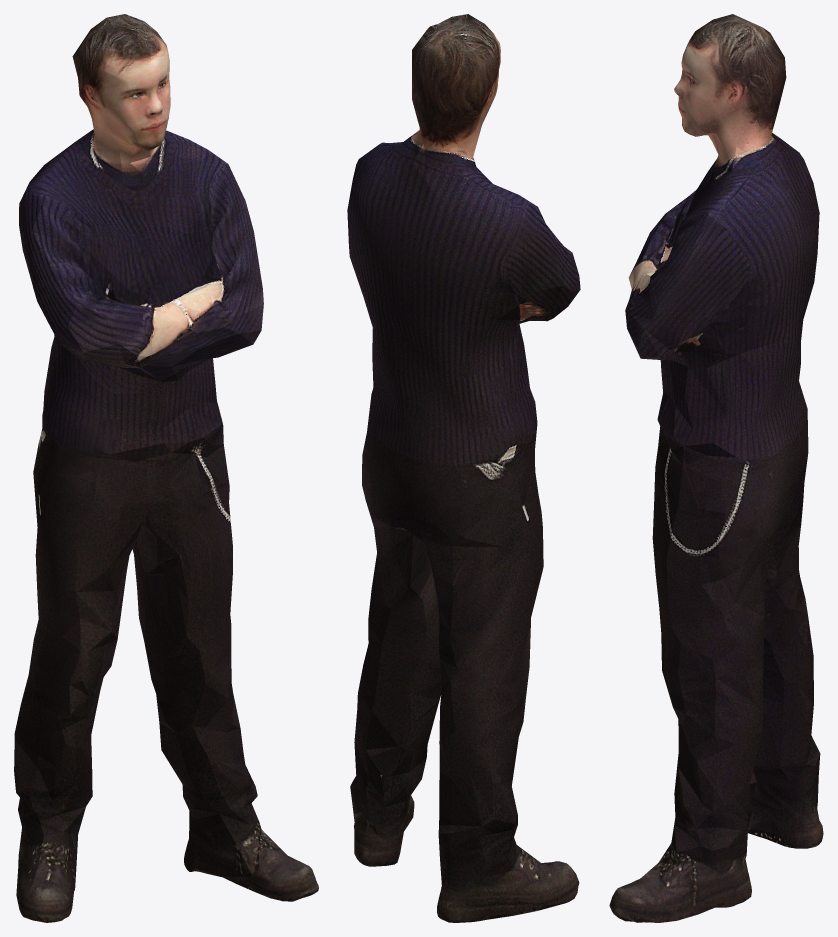
Rendered from Person_22.obj.
The picture shows the model from 3 angles, left to right: view 1: azimuth 30°, elevation 25°; view 2: azimuth 150°, elevation 25°; view 3: azimuth 270°, elevation 25°; orthographic projection. The views are drawn at different scales.
Visible parts, largest first — view 1: Person_22; view 2: Person_22; view 3: Person_22.
Part boxes in pixels (left/top/right/bottom): Person_22: left=14, top=14, right=318, bottom=922; Person_22: left=347, top=14, right=580, bottom=922; Person_22: left=609, top=14, right=823, bottom=922.
Bounding box in the file's own units: 0.5421 × 1.79 × 0.4143.
Materials: 1 (1 with a texture image).
